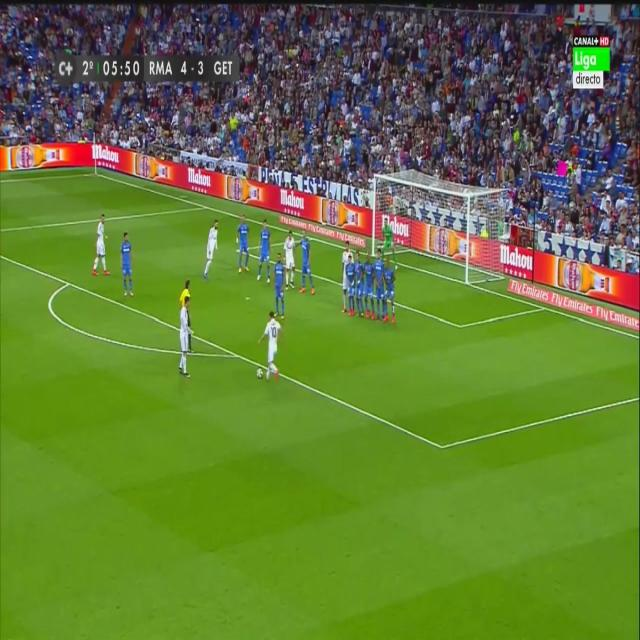Ball: (254, 364, 266, 382)
Goalkeeper: (379, 218, 404, 272)
Player: (258, 309, 284, 380), (297, 228, 319, 296), (118, 229, 137, 302), (90, 215, 110, 281), (372, 246, 388, 325), (381, 261, 399, 331), (201, 217, 221, 278), (272, 252, 289, 322), (256, 221, 274, 286), (179, 297, 193, 375), (233, 214, 250, 278), (339, 242, 353, 318), (282, 229, 298, 293), (364, 250, 377, 322), (353, 251, 366, 319), (346, 251, 358, 319)
Referee: (176, 278, 196, 306)
